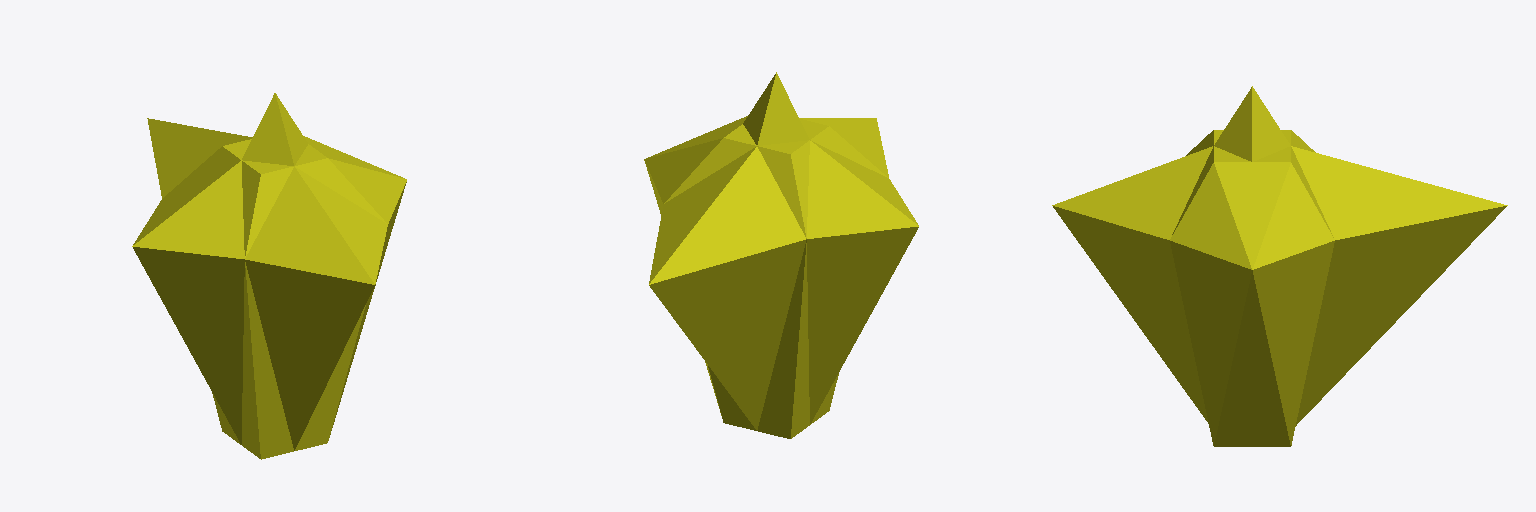
3 renders of one model, left to right at view 1: azimuth 30°, elevation 25°; view 2: azimuth 150°, elevation 25°; view 3: azimuth 270°, elevation 25°, orthographic.
Parts seen in each view (by area): view 1: Cube; view 2: Cube; view 3: Cube.
Part boxes in pixels (x1,y1,x2,y2): Cube: (132, 93, 406, 459); Cube: (644, 72, 918, 438); Cube: (1052, 86, 1507, 446).
Size of the model in its own units: 8.22 by 9.84 by 11.79.
Materials: 1 (1 with a texture image).